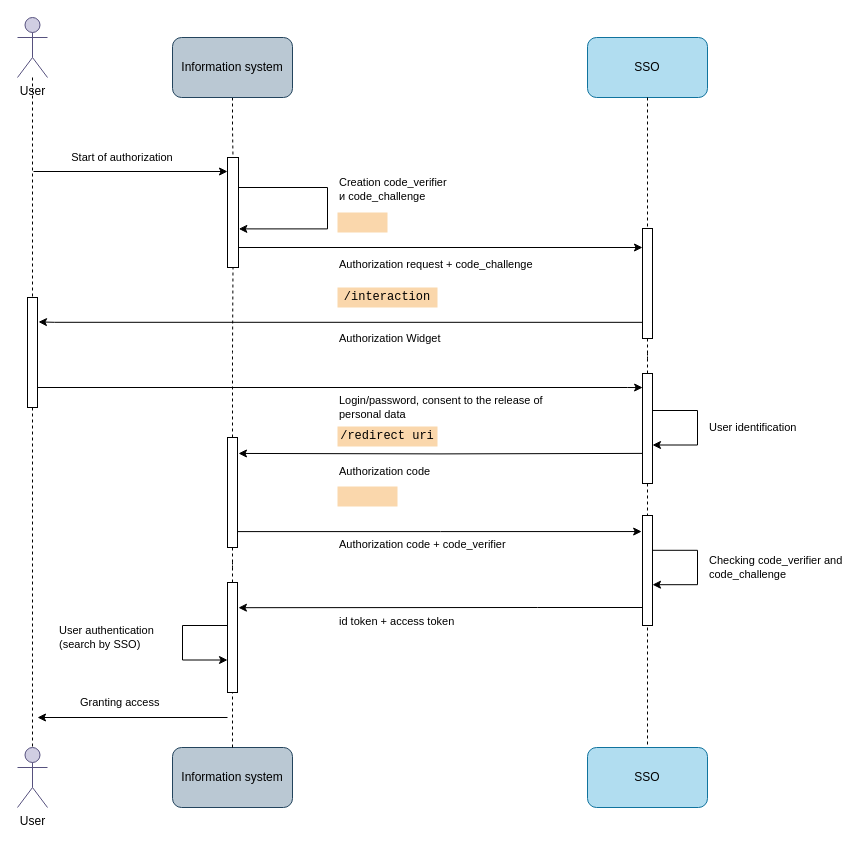
The diagram is 865 pixels wide and 846 high, and some of its shapes have lost their labels. The box of each missing label's shape, as (x1, y1, x2, y2) in pixels:
/auth: (337, 212, 387, 232)
/token: (337, 486, 397, 506)
